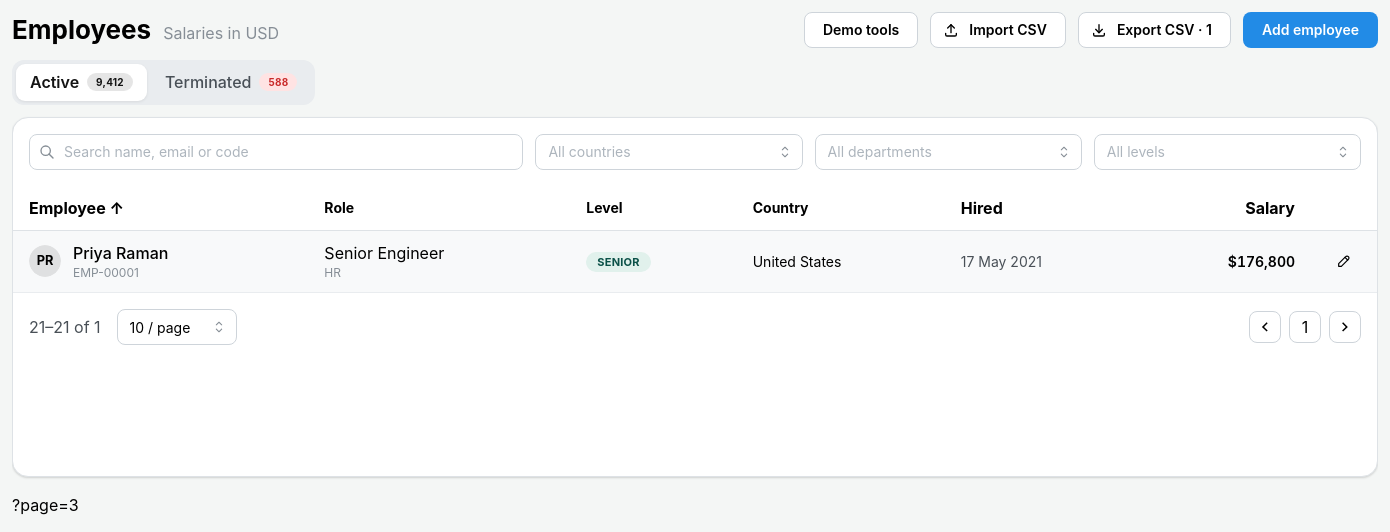
Test case: EmployeesPage › writes a chosen filter to the URL and goes back to page 1
Expected: the text "Priya Raman" is shown, [73,241,168,265]
Step 1. Click the dropdown named "Country" → (669, 152), box [535,134,803,170]
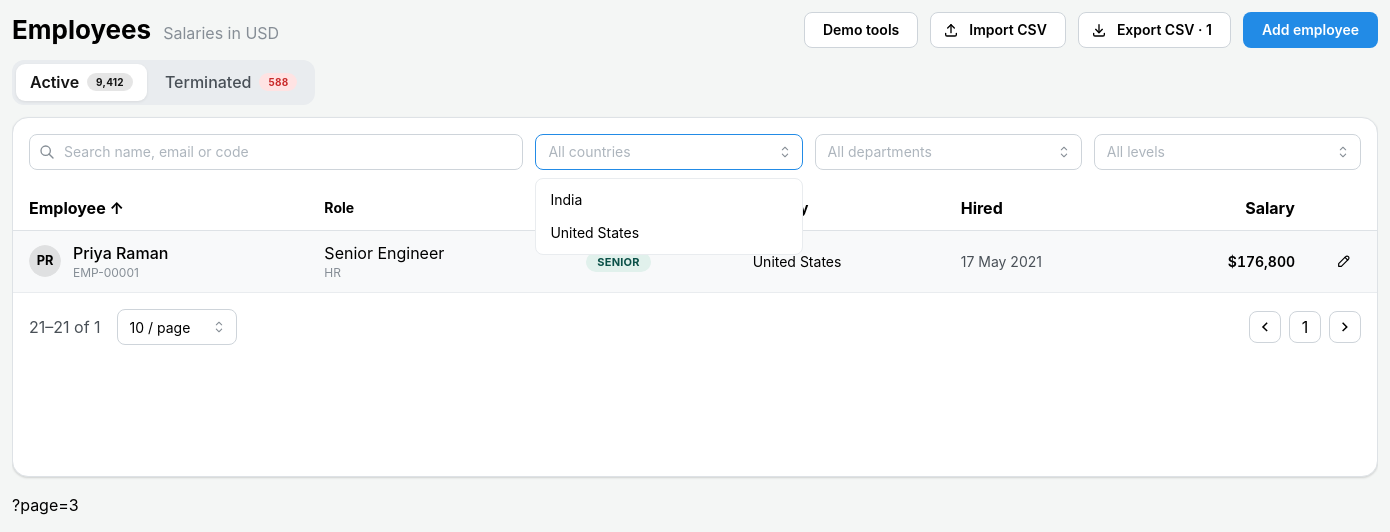
Step 2. Click the option "India" → (566, 199), box [550,191,582,208]
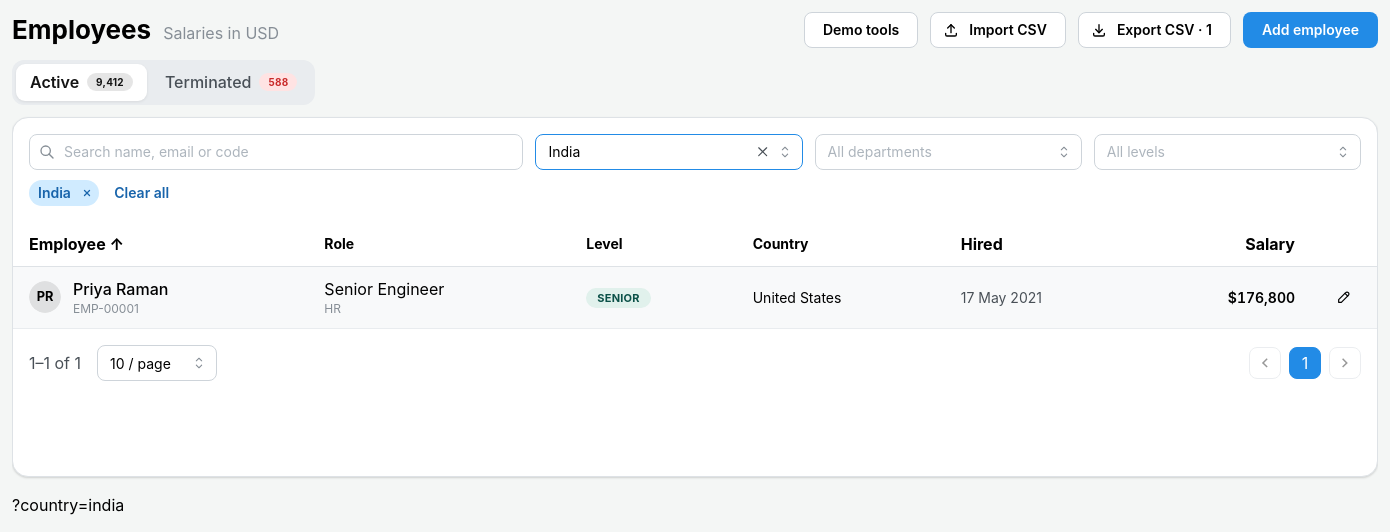
Expected: the text with test id "search" reads "?country=india", [12,495,124,515]
